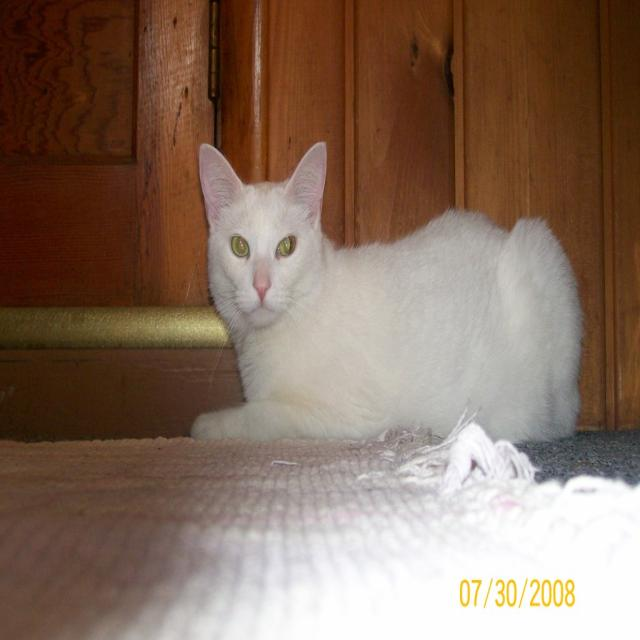Cat: (179, 138, 585, 442)
